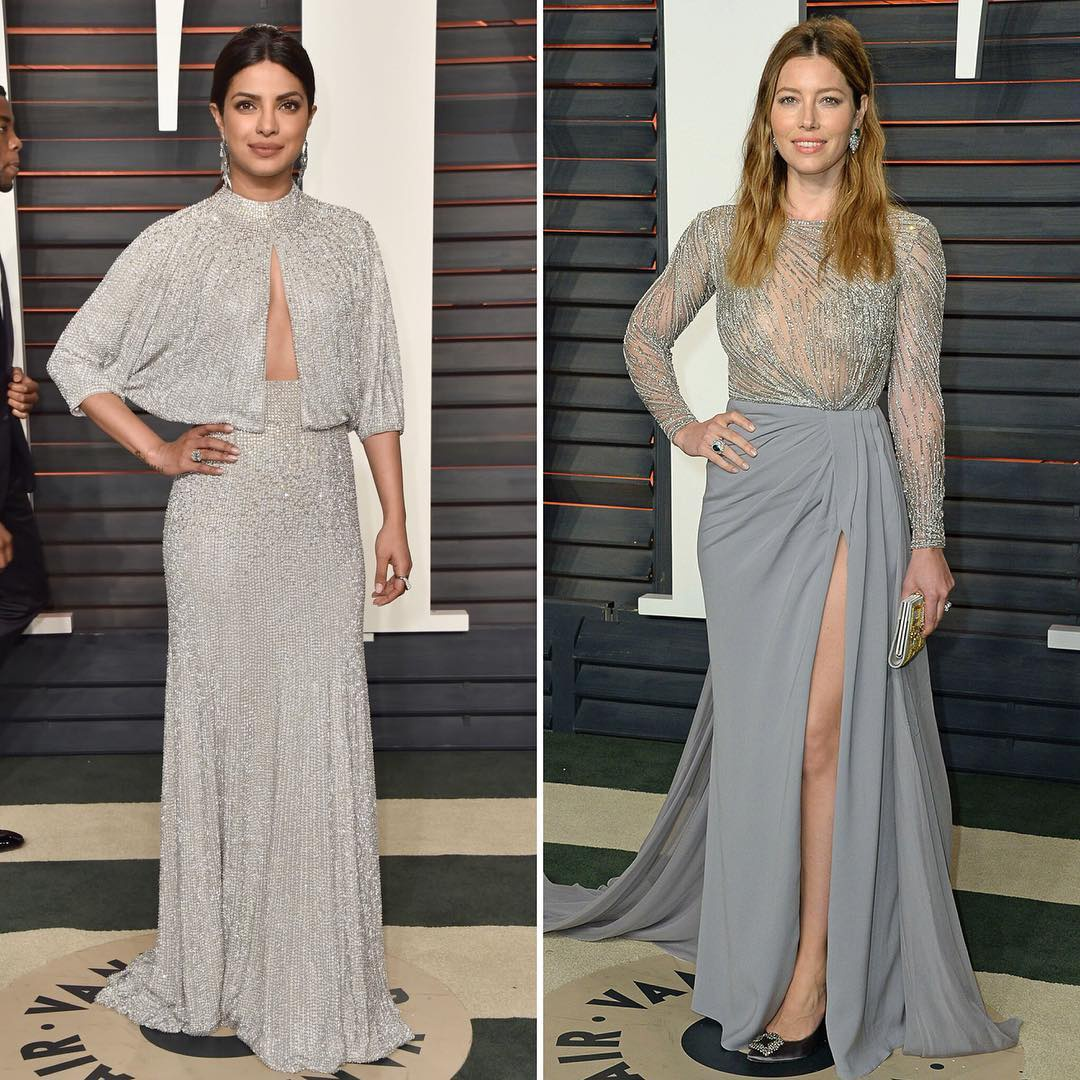hand: (381, 520, 405, 600)
